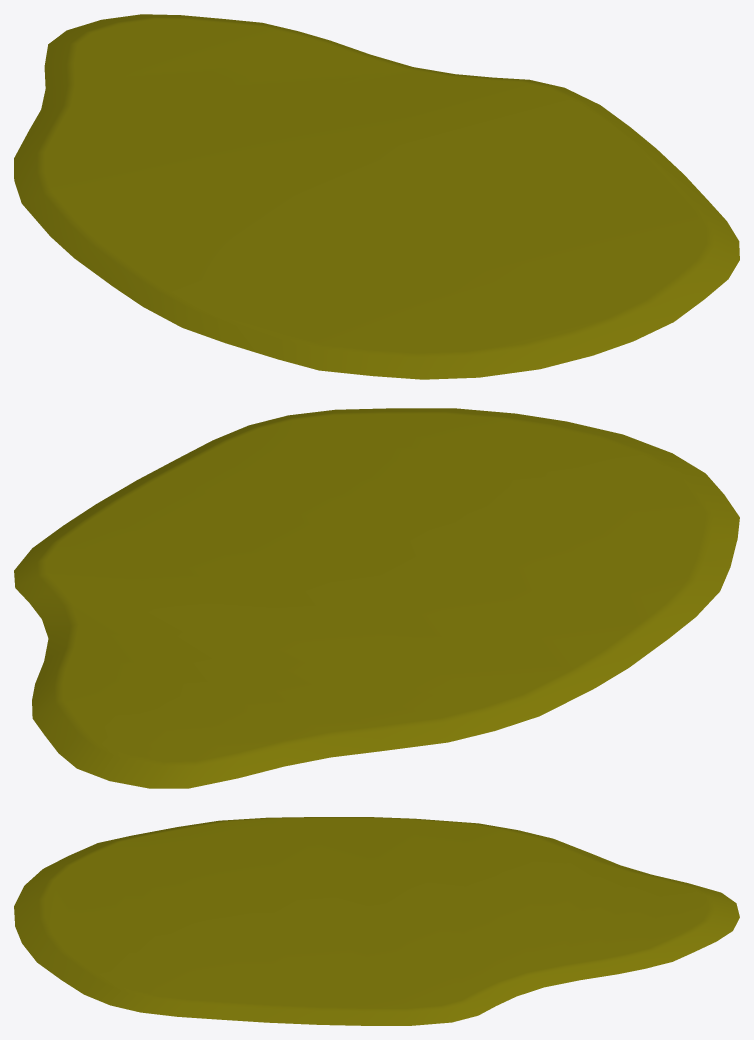
Rendered from GroundPadding01_4.fbx.
3 renders of one model, top to bottom at view 1: azimuth 30°, elevation 25°; view 2: azimuth 150°, elevation 25°; view 3: azimuth 270°, elevation 25°, orthographic. The views are drawn at different scales.
Parts seen in each view (by area): view 1: LOD0; view 2: LOD0; view 3: LOD0.
Boxes of the visible parts, box(x1,y1,x2,y2) form: LOD0: box(14, 14, 739, 379); LOD0: box(14, 408, 739, 788); LOD0: box(14, 817, 739, 1025).
Size of what is drawn, in the model's own units: 1153 by 1693 by 20.6.
Materials: 1 (1 with a texture image).
